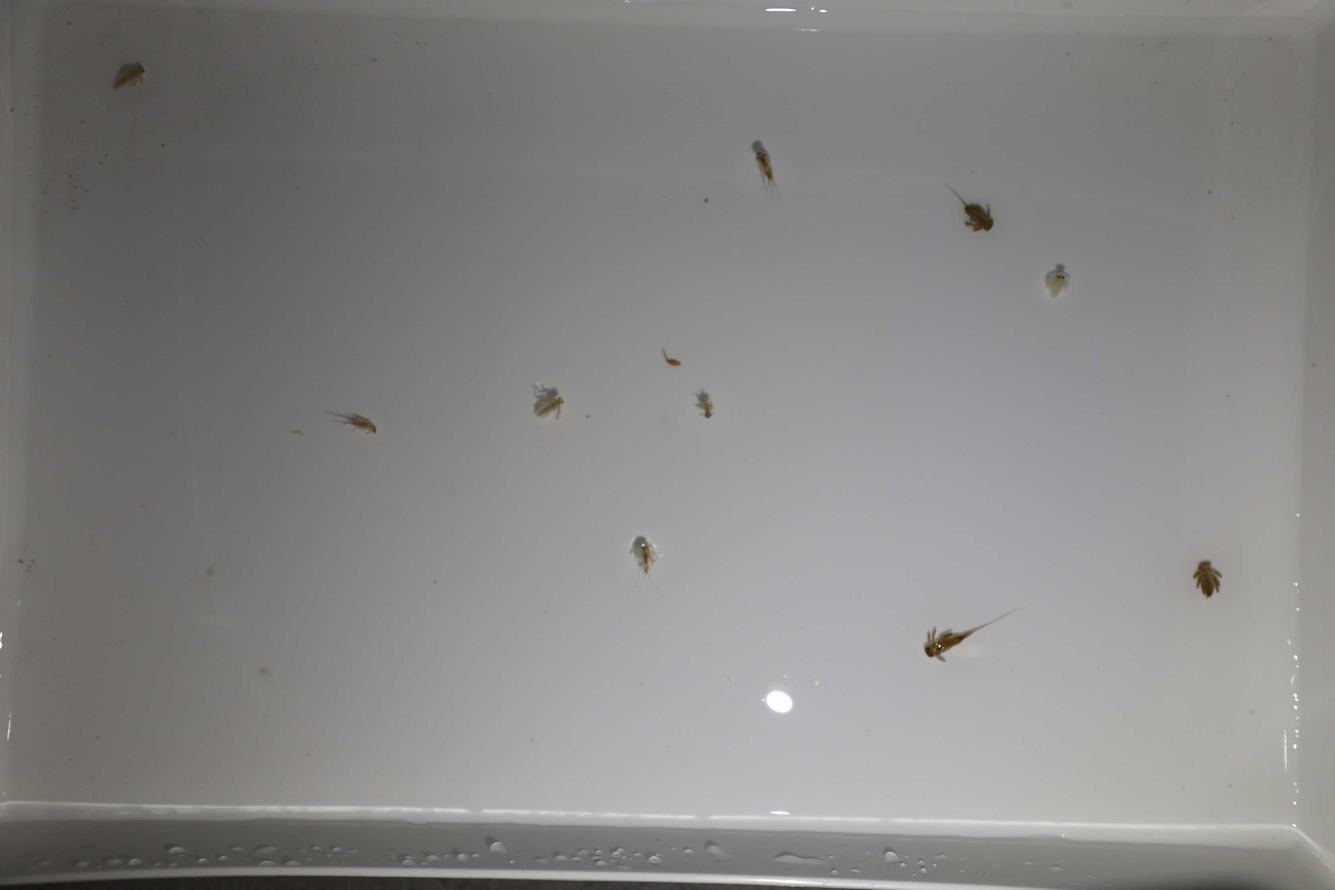Mayfly: (918, 604, 1012, 669), (941, 183, 999, 244), (746, 142, 784, 205), (327, 401, 381, 441), (1187, 553, 1227, 606), (1039, 251, 1072, 309), (527, 376, 565, 424), (106, 56, 147, 96), (627, 538, 659, 583), (694, 390, 720, 431)
